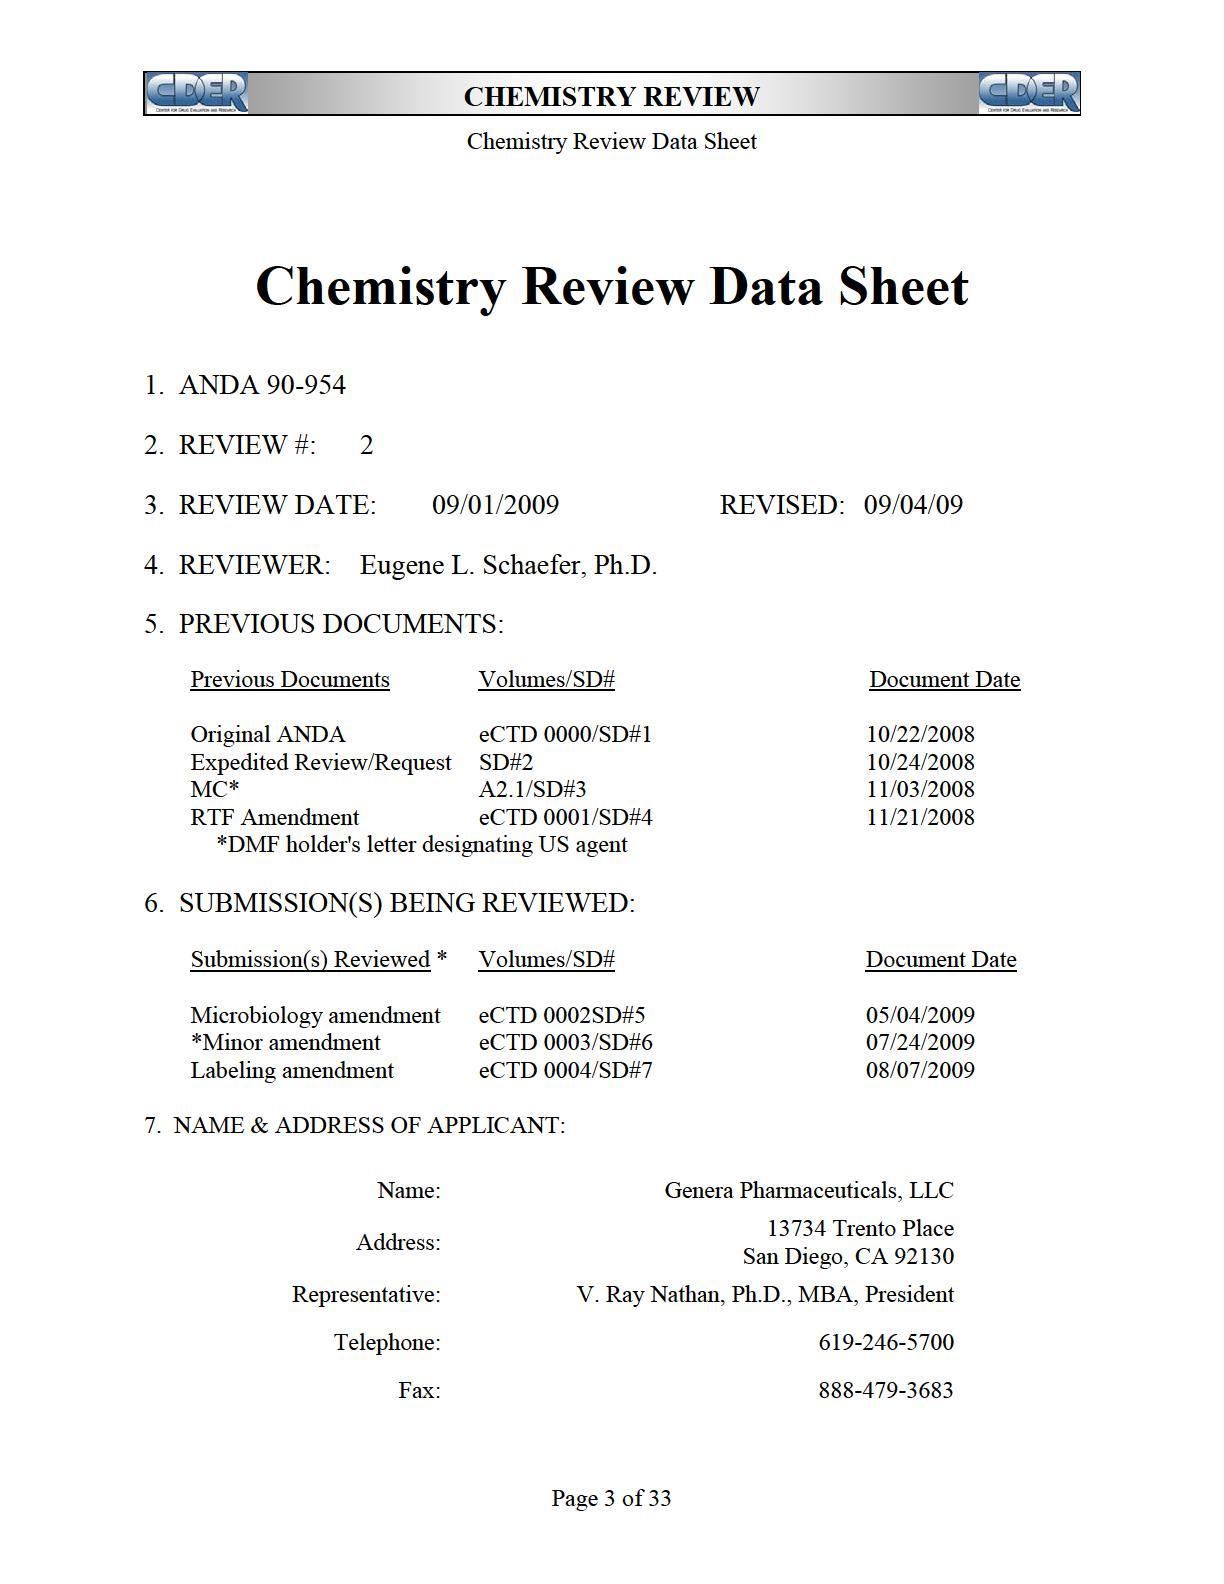nolines: (291, 1178, 960, 1404), (185, 665, 1023, 827), (188, 949, 1016, 1080)
